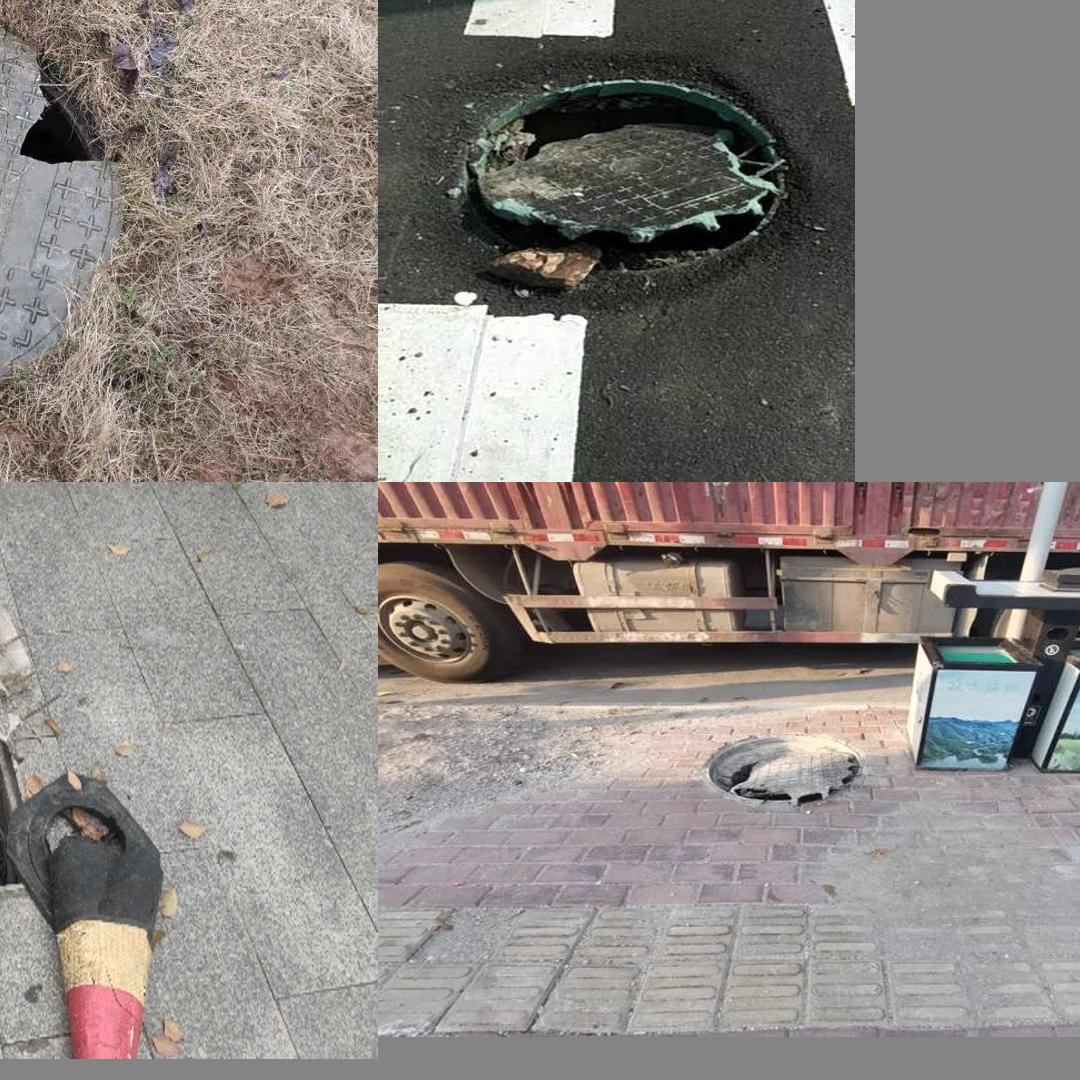broke: (394, 46, 839, 307), (0, 1, 122, 399), (685, 717, 888, 831), (0, 602, 36, 910)
